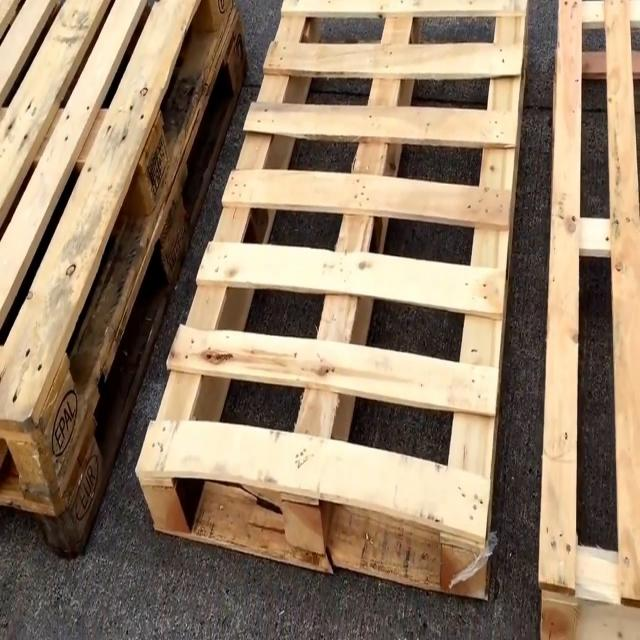Palette: (132, 0, 533, 628), (0, 0, 257, 569), (537, 0, 640, 640)
